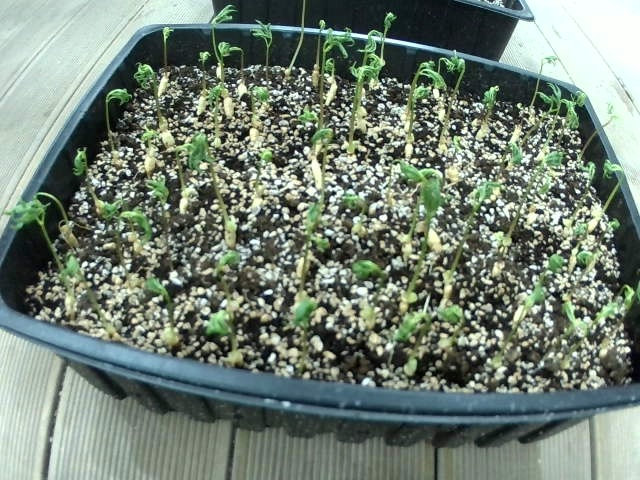생장기: (445, 172, 513, 232), (118, 259, 181, 321), (345, 247, 408, 309), (337, 187, 388, 239), (203, 309, 259, 356), (569, 239, 625, 286), (207, 248, 263, 293), (519, 71, 575, 114), (162, 135, 219, 176), (350, 69, 411, 107), (590, 283, 635, 331), (279, 126, 337, 162), (529, 244, 575, 289), (496, 283, 550, 321), (38, 264, 90, 303), (583, 94, 627, 140), (12, 205, 56, 251), (391, 307, 434, 354), (368, 6, 422, 43), (509, 149, 566, 184), (40, 147, 111, 175), (272, 311, 327, 347), (209, 87, 262, 124), (229, 139, 283, 175), (545, 282, 583, 333), (550, 83, 593, 128), (387, 70, 445, 103), (486, 137, 534, 176), (121, 49, 165, 91), (462, 78, 507, 119), (111, 211, 163, 245), (520, 47, 564, 87), (566, 210, 605, 251), (595, 154, 634, 193), (354, 28, 400, 61), (303, 208, 335, 255), (106, 84, 148, 119), (401, 173, 449, 203), (443, 307, 480, 343), (395, 49, 434, 83), (88, 189, 119, 231), (137, 174, 173, 210), (567, 153, 601, 189), (287, 101, 325, 133), (207, 39, 250, 67), (252, 22, 288, 55), (150, 7, 179, 47), (439, 57, 475, 87), (127, 131, 165, 159), (186, 48, 216, 83), (324, 30, 361, 55), (215, 3, 248, 31), (307, 63, 340, 90), (256, 82, 283, 111), (315, 20, 341, 47)
